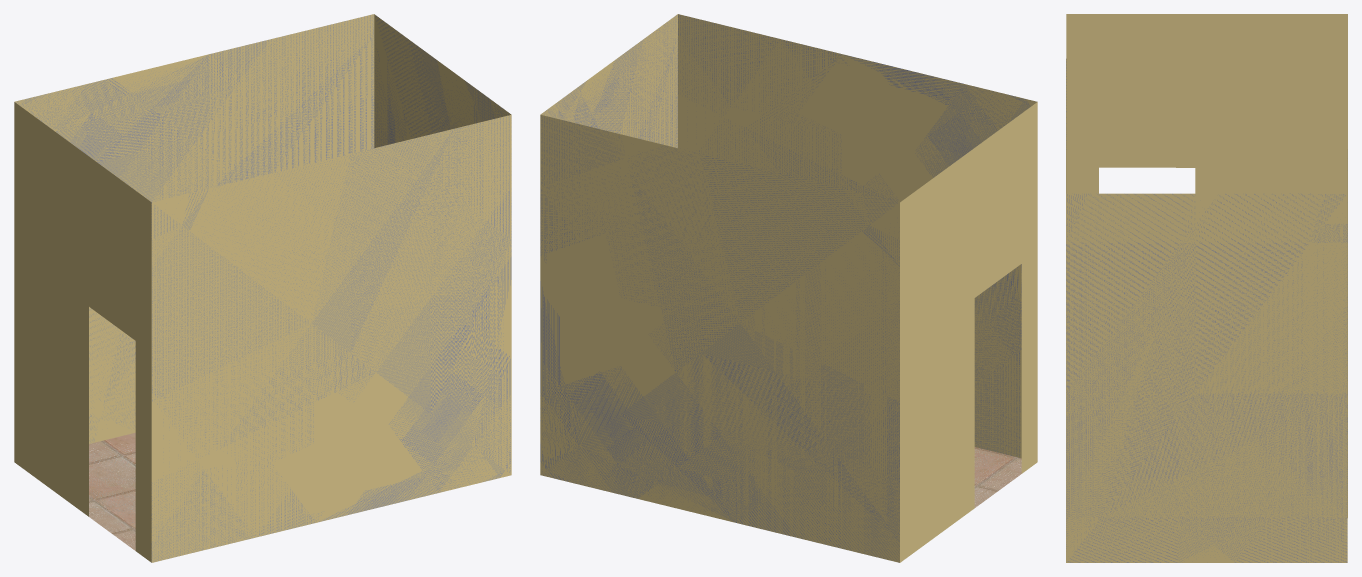
Rendered from DES034.obj.
3 views of the same model, side by side, from view 1: azimuth 30°, elevation 25°; view 2: azimuth 150°, elevation 25°; view 3: azimuth 270°, elevation 25° (orthographic). The views are drawn at different scales.
Visible parts, largest first — view 1: Mesh1 DES034 Model; view 2: Mesh1 DES034 Model; view 3: Mesh1 DES034 Model.
Boxes of the visible parts, x1,y1,x2,y2 form: Mesh1 DES034 Model: [14, 14, 511, 562]; Mesh1 DES034 Model: [540, 14, 1037, 562]; Mesh1 DES034 Model: [1066, 14, 1347, 562].
Bounding box in the file's own units: 3.76 × 3.6 × 2.49.
4 materials, 2 textured.
